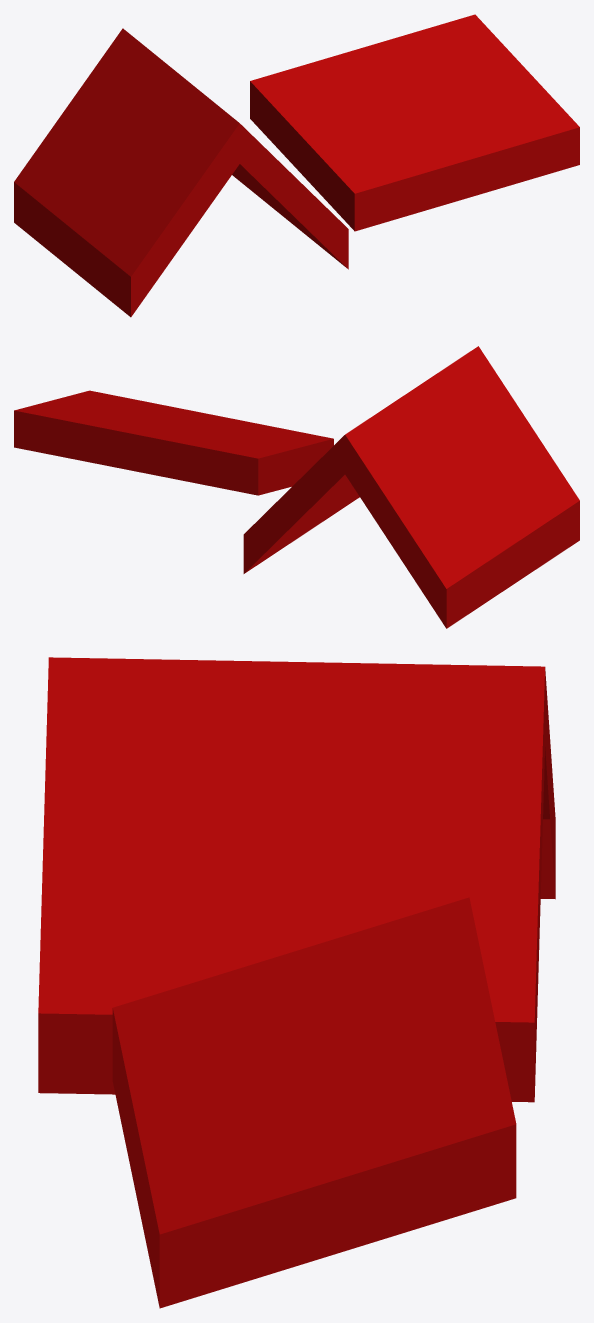
The model's file is n_market_place01_tent_lod0.glb.
3 renders of one model, top to bottom at view 1: azimuth 30°, elevation 25°; view 2: azimuth 150°, elevation 25°; view 3: azimuth 270°, elevation 25°, orthographic. The views are drawn at different scales.
Parts seen in each view (by area): view 1: MODEL_n_market_place01_tent_lod0; view 2: MODEL_n_market_place01_tent_lod0; view 3: MODEL_n_market_place01_tent_lod0.
Boxes of the visible parts, left/top/right/bottom form: MODEL_n_market_place01_tent_lod0: left=14, top=14, right=579, bottom=317; MODEL_n_market_place01_tent_lod0: left=14, top=346, right=579, bottom=628; MODEL_n_market_place01_tent_lod0: left=38, top=657, right=555, bottom=1308.
Size of the model in its own units: 1.5 by 0.5162 by 0.7243.
